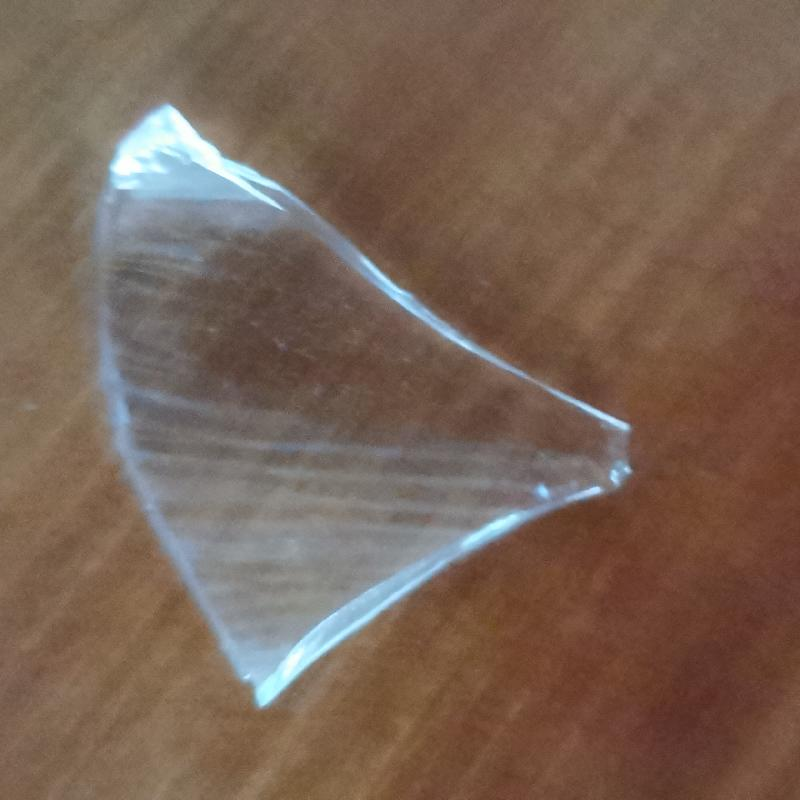glass: (97, 197, 634, 701)
